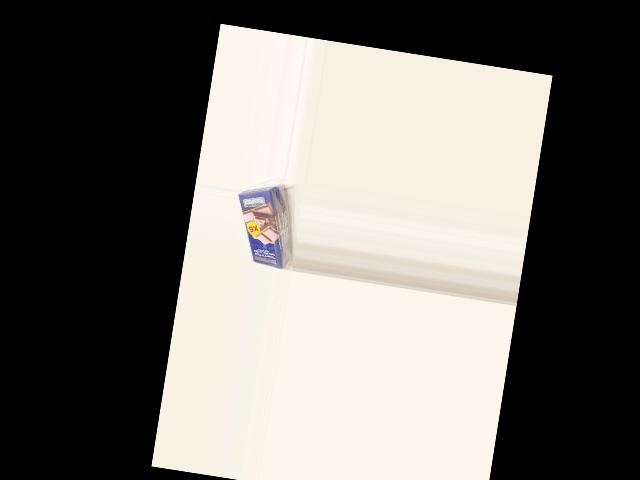chocolate: (227, 183, 299, 270)
